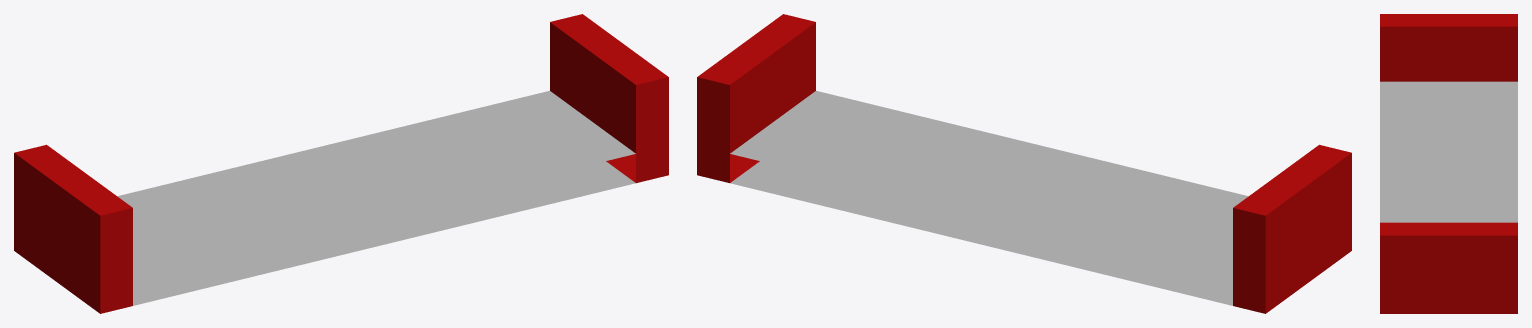
File: RoadTile.fbx
The picture shows the model from 3 angles, left to right: view 1: azimuth 30°, elevation 25°; view 2: azimuth 150°, elevation 25°; view 3: azimuth 270°, elevation 25°; orthographic projection. The views are drawn at different scales.
Visible parts, largest first — view 1: Road Tile; view 2: Road Tile; view 3: Road Tile.
Part boxes in pixels (x1=…): Road Tile: x1=14, y1=14, x2=668, y2=313; Road Tile: x1=697, y1=14, x2=1351, y2=313; Road Tile: x1=1380, y1=14, x2=1517, y2=313.
Size of the model in its own units: 3200 by 528 by 841.
